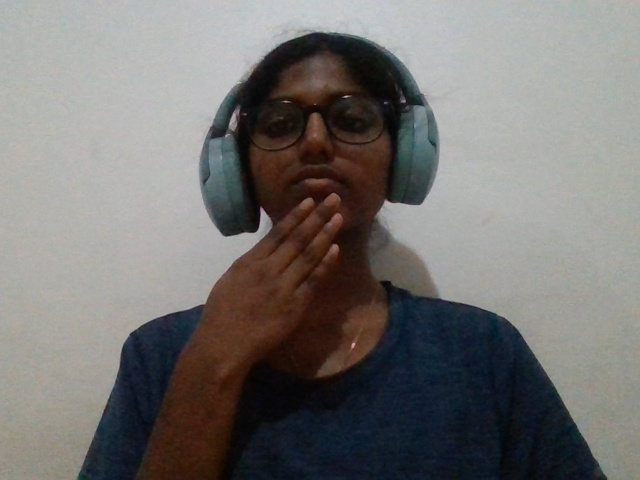Thanks: (179, 170, 355, 427)
